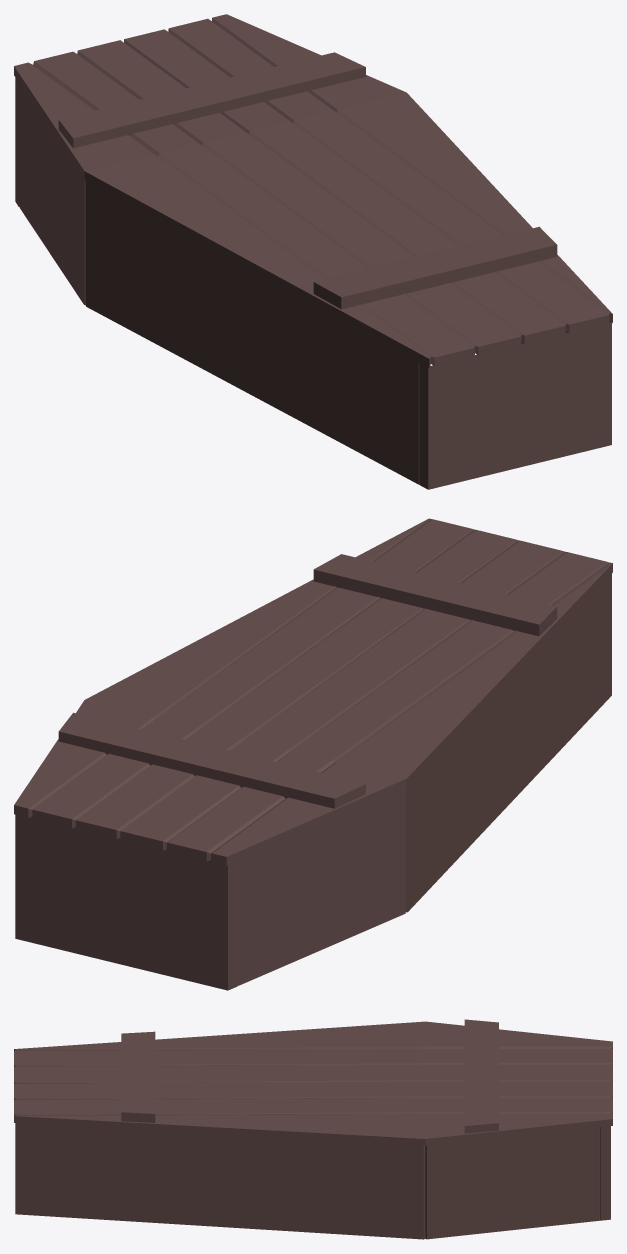
The model's file is coffin_1_mat.fbx.
3 renders of one model, top to bottom at view 1: azimuth 30°, elevation 25°; view 2: azimuth 150°, elevation 25°; view 3: azimuth 270°, elevation 25°, orthographic. The views are drawn at different scales.
Parts seen in each view (by area): view 1: coffin_1_mat; view 2: coffin_1_mat; view 3: coffin_1_mat.
Part boxes in pixels (x1,y1,x2,y2): coffin_1_mat: [14, 14, 612, 489]; coffin_1_mat: [14, 518, 612, 990]; coffin_1_mat: [14, 1019, 612, 1239].
Size of the model in its own units: 208 by 89.07 by 448.
